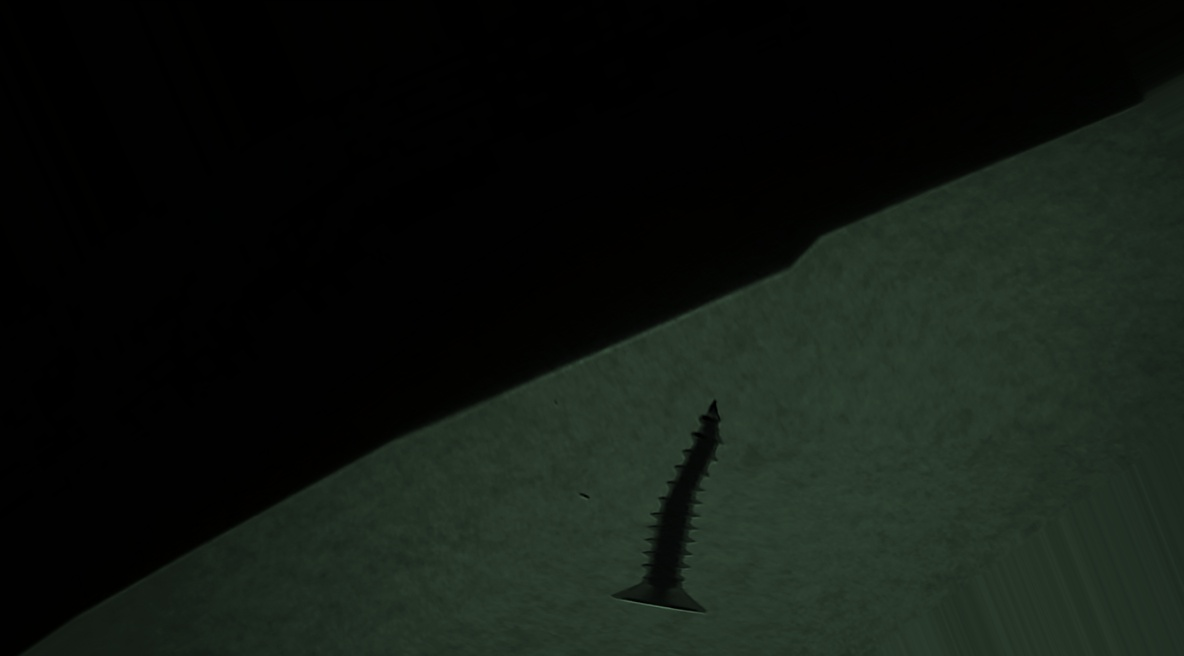S001: (522, 349, 856, 652)
